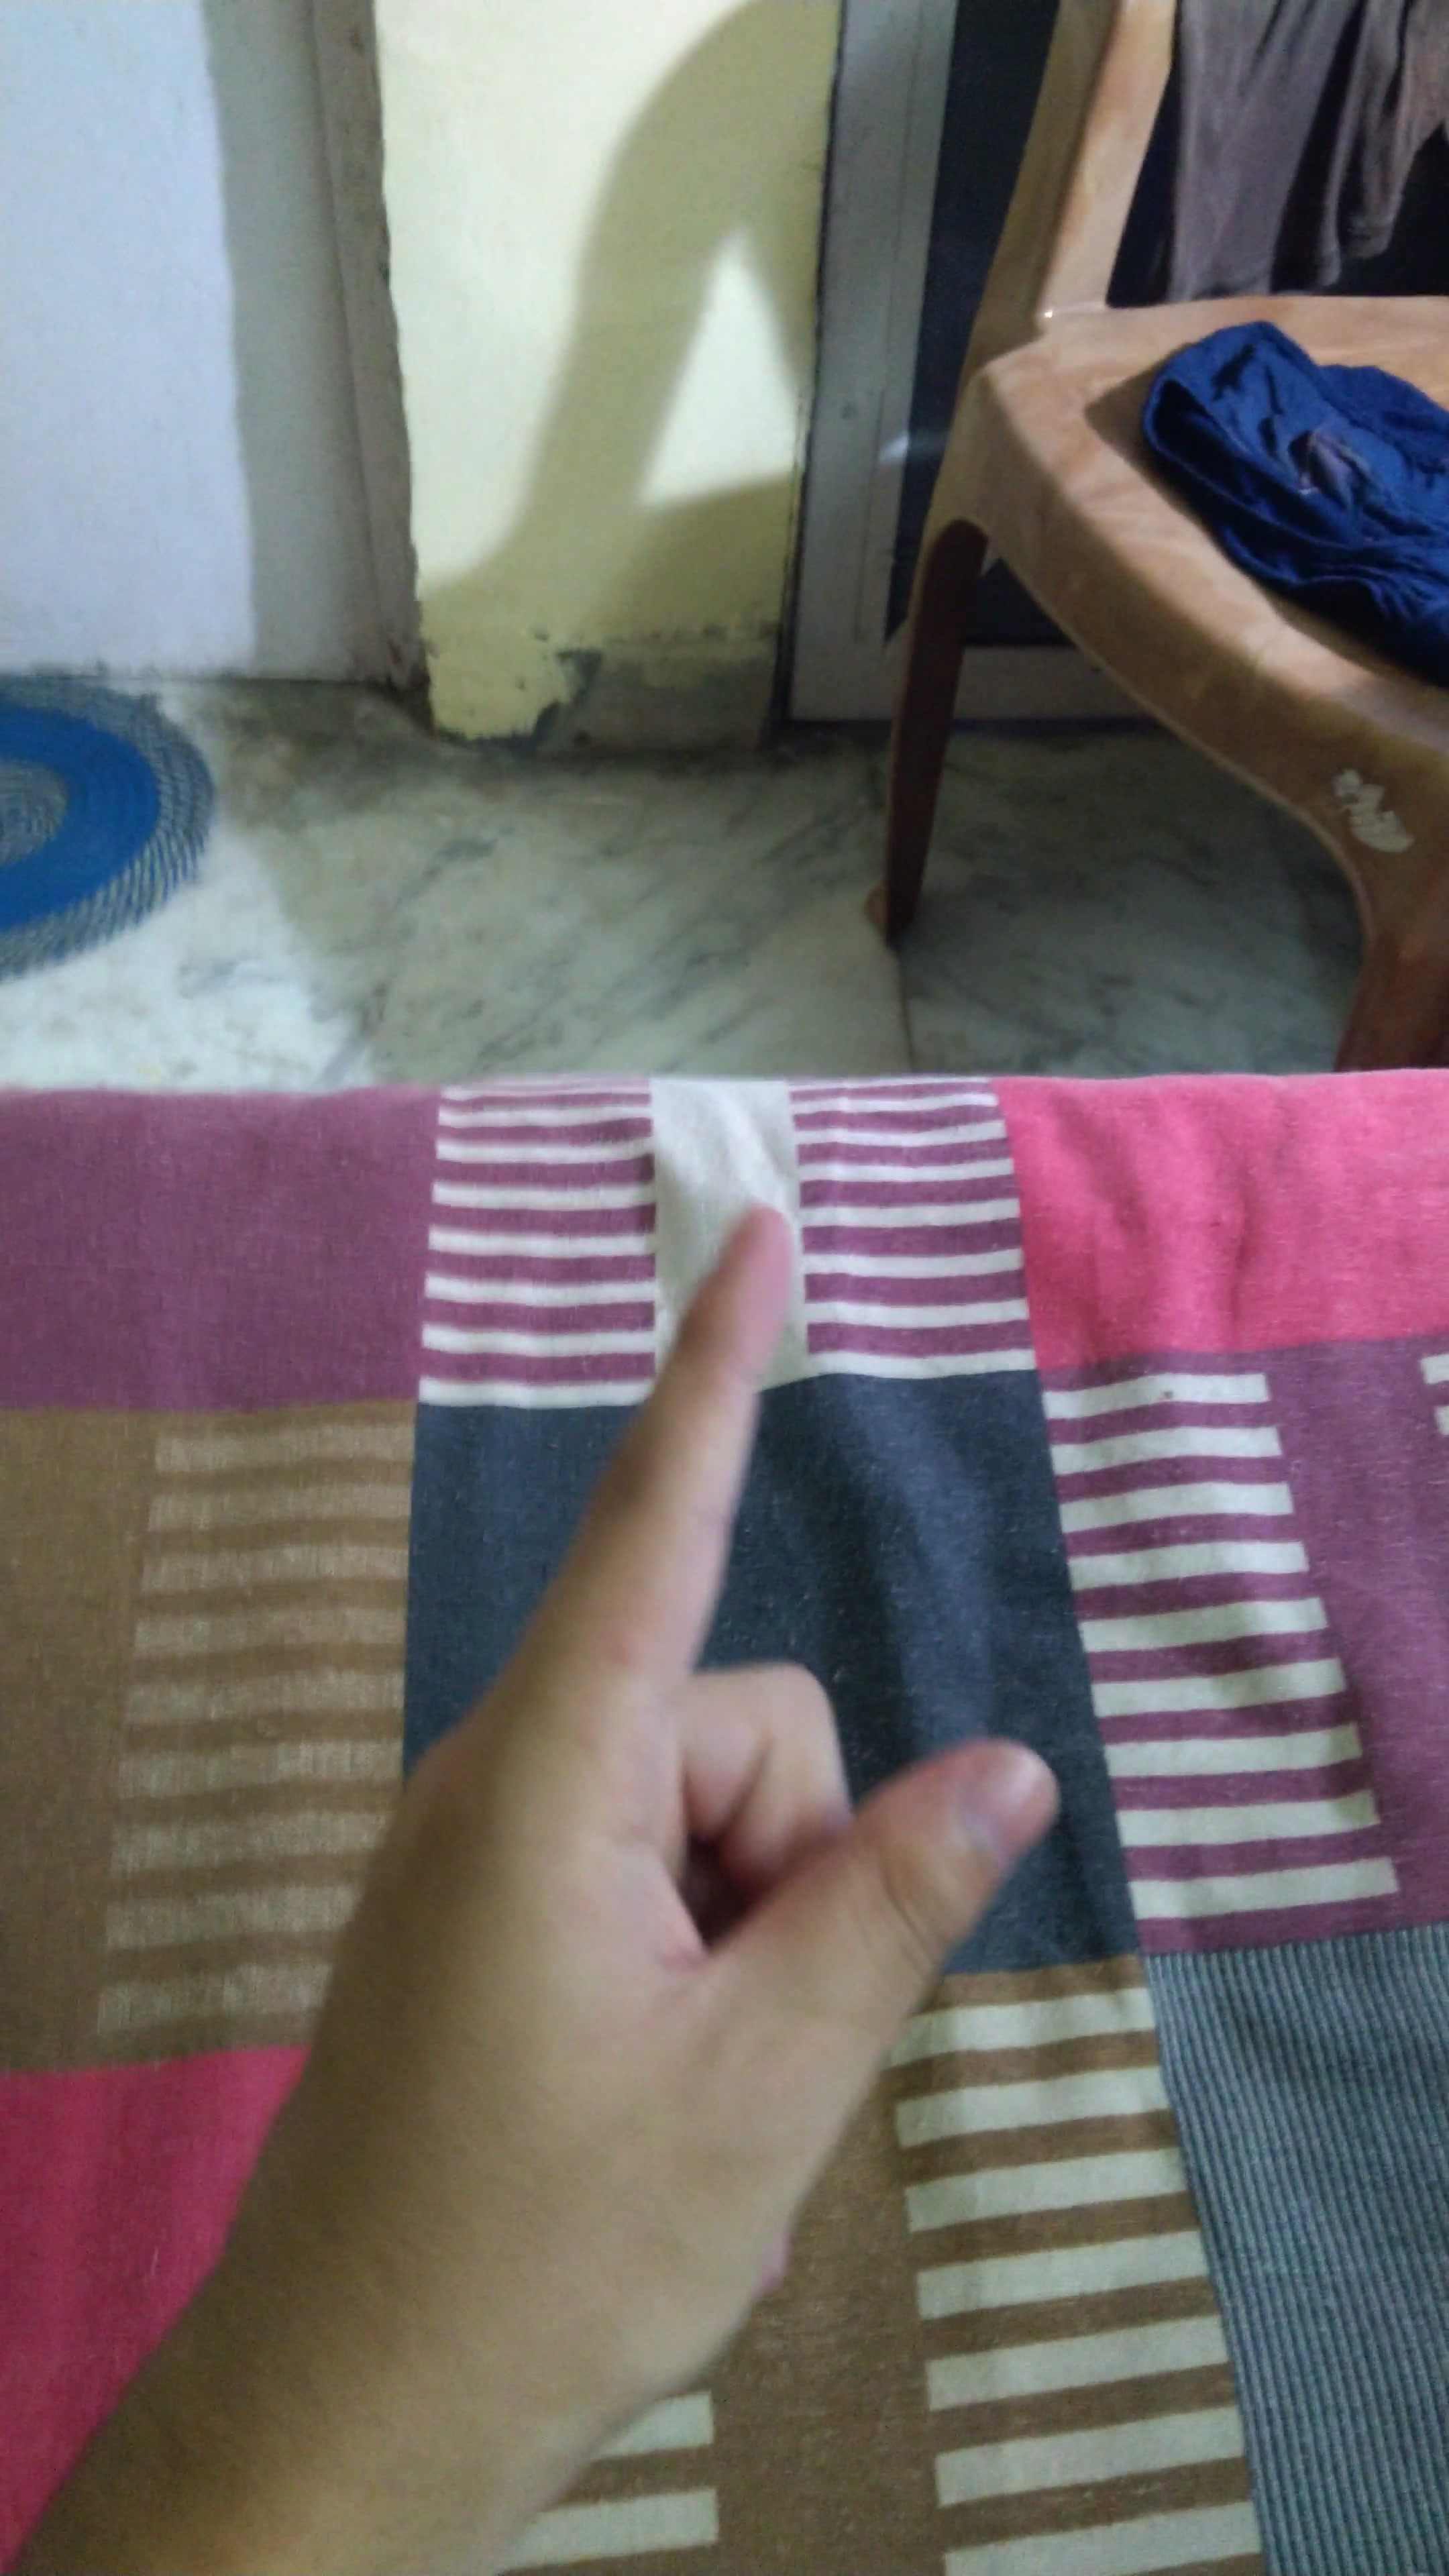hand: (156, 1189, 1088, 2424)
